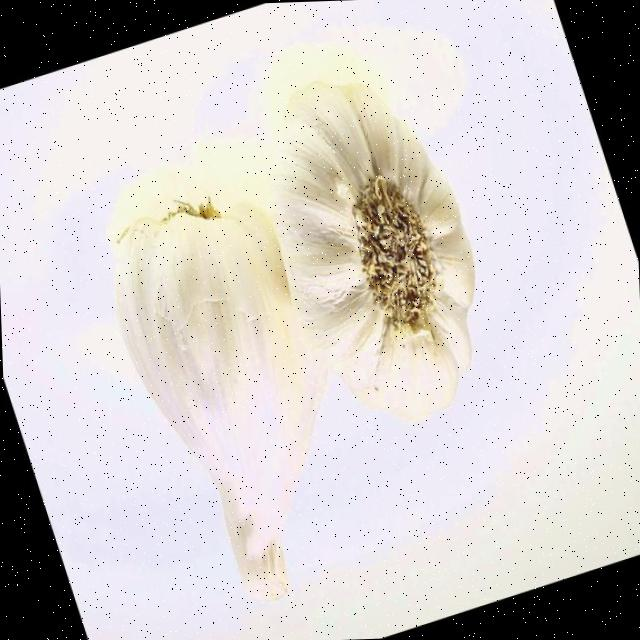garlic: (115, 203, 325, 598), (273, 83, 473, 419)
